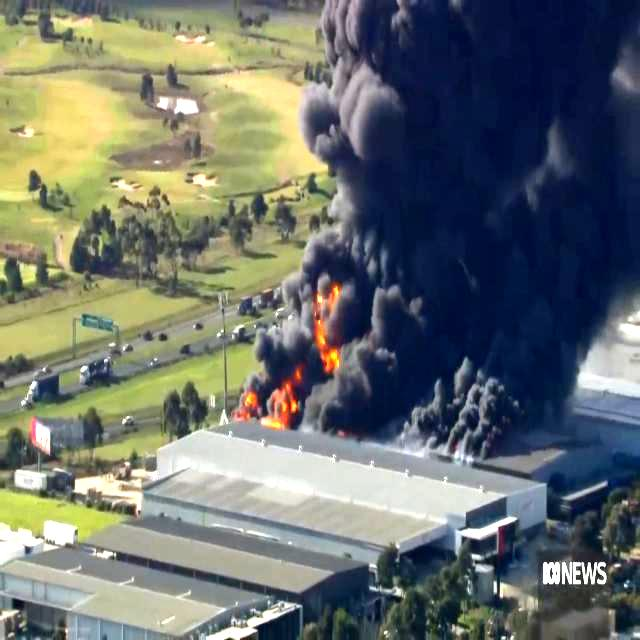fire: (240, 368, 302, 428), (314, 282, 346, 366)
